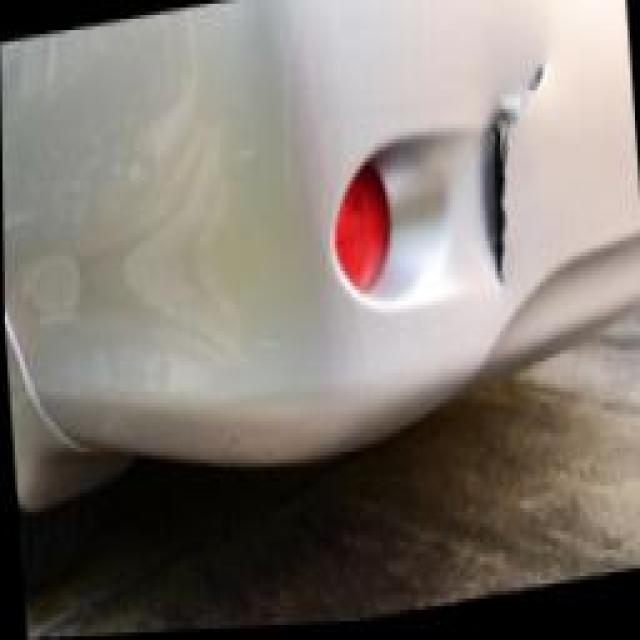Bumper: (454, 51, 582, 301)
